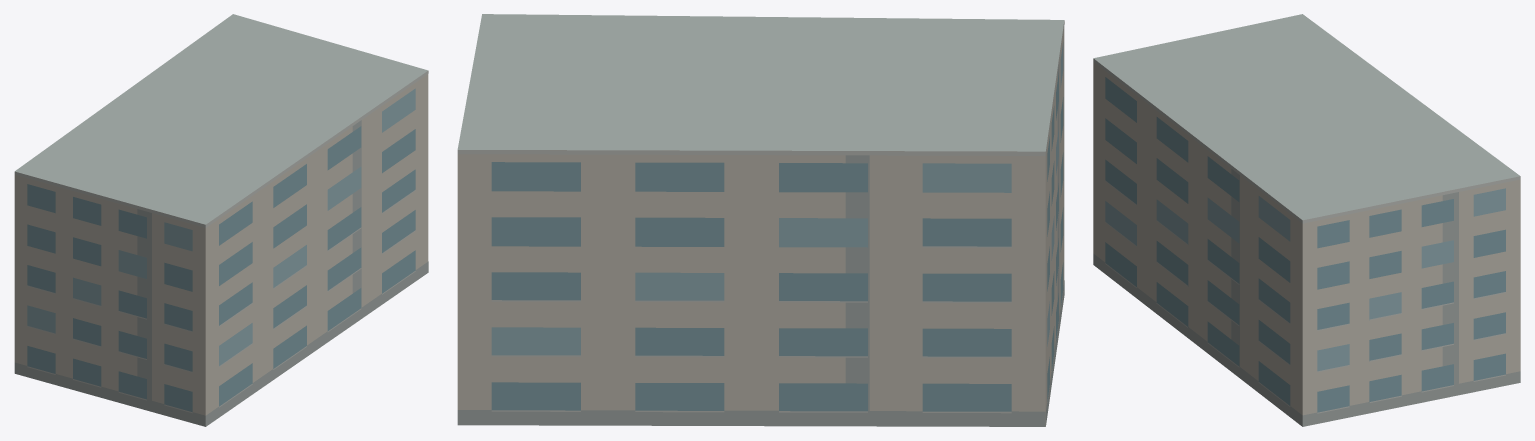
Rendered from residential-c7624980-9895-4e5d-a0b3-0921c6dc8ad6.glb.
3 renders of one model, left to right at view 1: azimuth 30°, elevation 25°; view 2: azimuth 150°, elevation 25°; view 3: azimuth 270°, elevation 25°, orthographic. The views are drawn at different scales.
Visible parts, largest first — view 1: residential-c7624980-9895-4e5d-a0b3-0921c6dc8ad6.tmp; view 2: residential-c7624980-9895-4e5d-a0b3-0921c6dc8ad6.tmp; view 3: residential-c7624980-9895-4e5d-a0b3-0921c6dc8ad6.tmp.
Boxes of the visible parts, x1,y1,x2,y2 form: residential-c7624980-9895-4e5d-a0b3-0921c6dc8ad6.tmp: [14, 14, 428, 426]; residential-c7624980-9895-4e5d-a0b3-0921c6dc8ad6.tmp: [457, 14, 1064, 426]; residential-c7624980-9895-4e5d-a0b3-0921c6dc8ad6.tmp: [1093, 14, 1520, 426].
Bounding box in the file's own units: 32.68 × 15.25 × 28.6.
